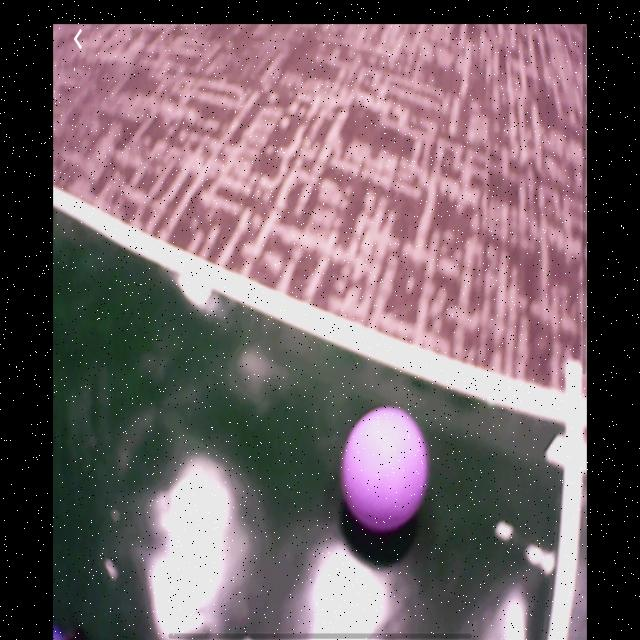ball: (341, 406, 431, 534)
